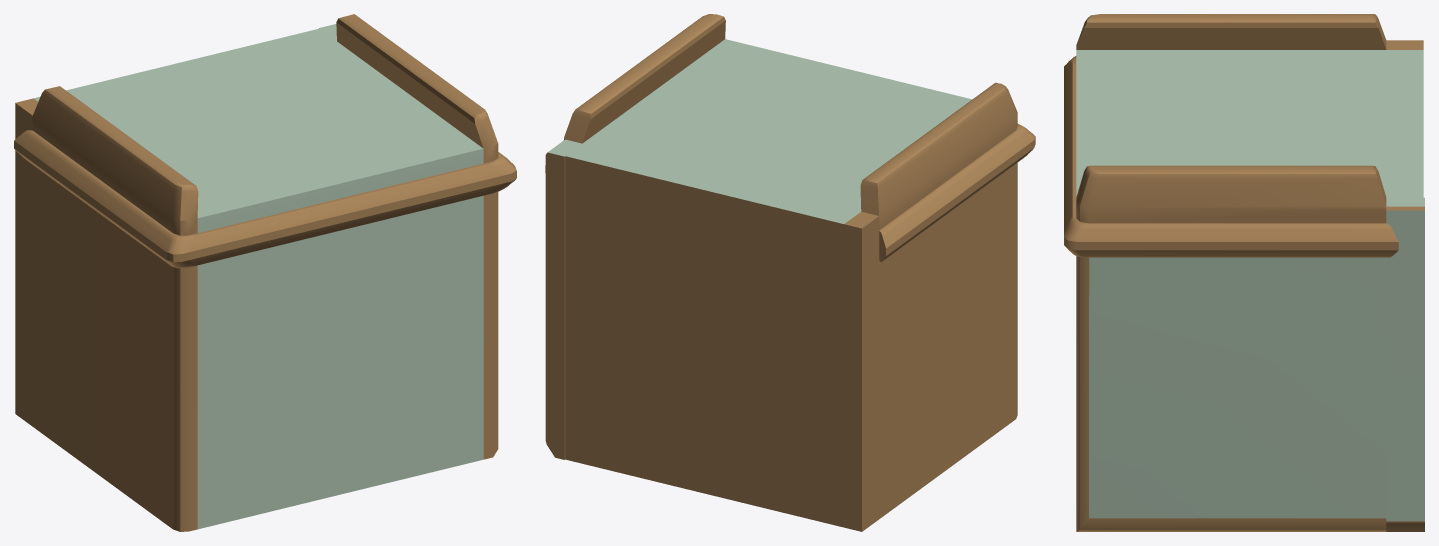
Rendered from short_cabinet.fbx.
The picture shows the model from 3 angles, left to right: view 1: azimuth 30°, elevation 25°; view 2: azimuth 150°, elevation 25°; view 3: azimuth 270°, elevation 25°; orthographic projection. The views are drawn at different scales.
Parts seen in each view (by area): view 1: polySurface1; view 2: polySurface1; view 3: polySurface1.
Part boxes in pixels (bbox=[...]): polySurface1: bbox=[14, 14, 516, 531]; polySurface1: bbox=[545, 14, 1035, 531]; polySurface1: bbox=[1064, 14, 1424, 531].
Bounding box in the file's own units: 2.19 × 2.04 × 1.85.
